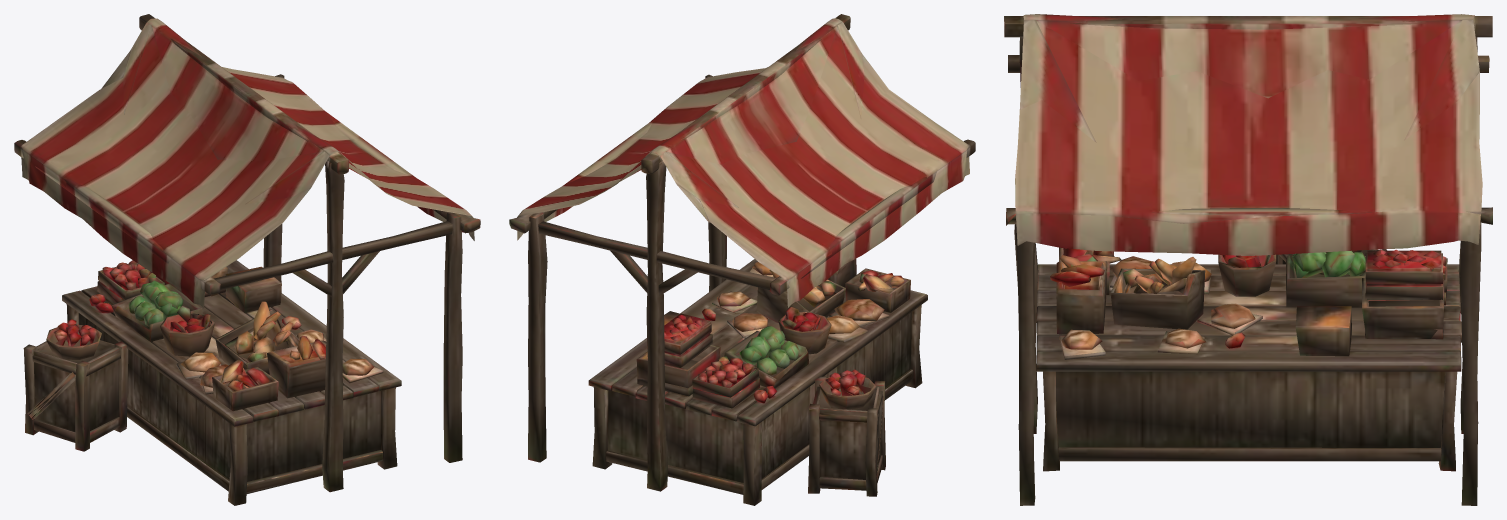
File: stall_red.glb
3 views of the same model, side by side, from view 1: azimuth 30°, elevation 25°; view 2: azimuth 150°, elevation 25°; view 3: azimuth 270°, elevation 25° (orthographic). The views are drawn at different scales.
Bounding box in the file's own units: 0.8741 × 0.897 × 0.9575.
Materials: 1 (1 with a texture image).
